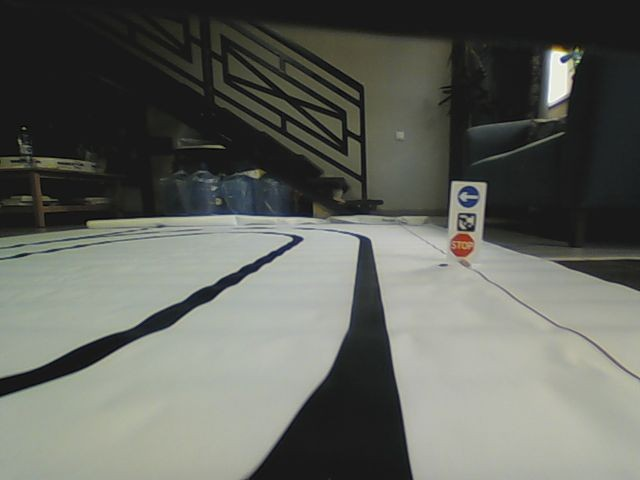Stop: (450, 232, 475, 258)
